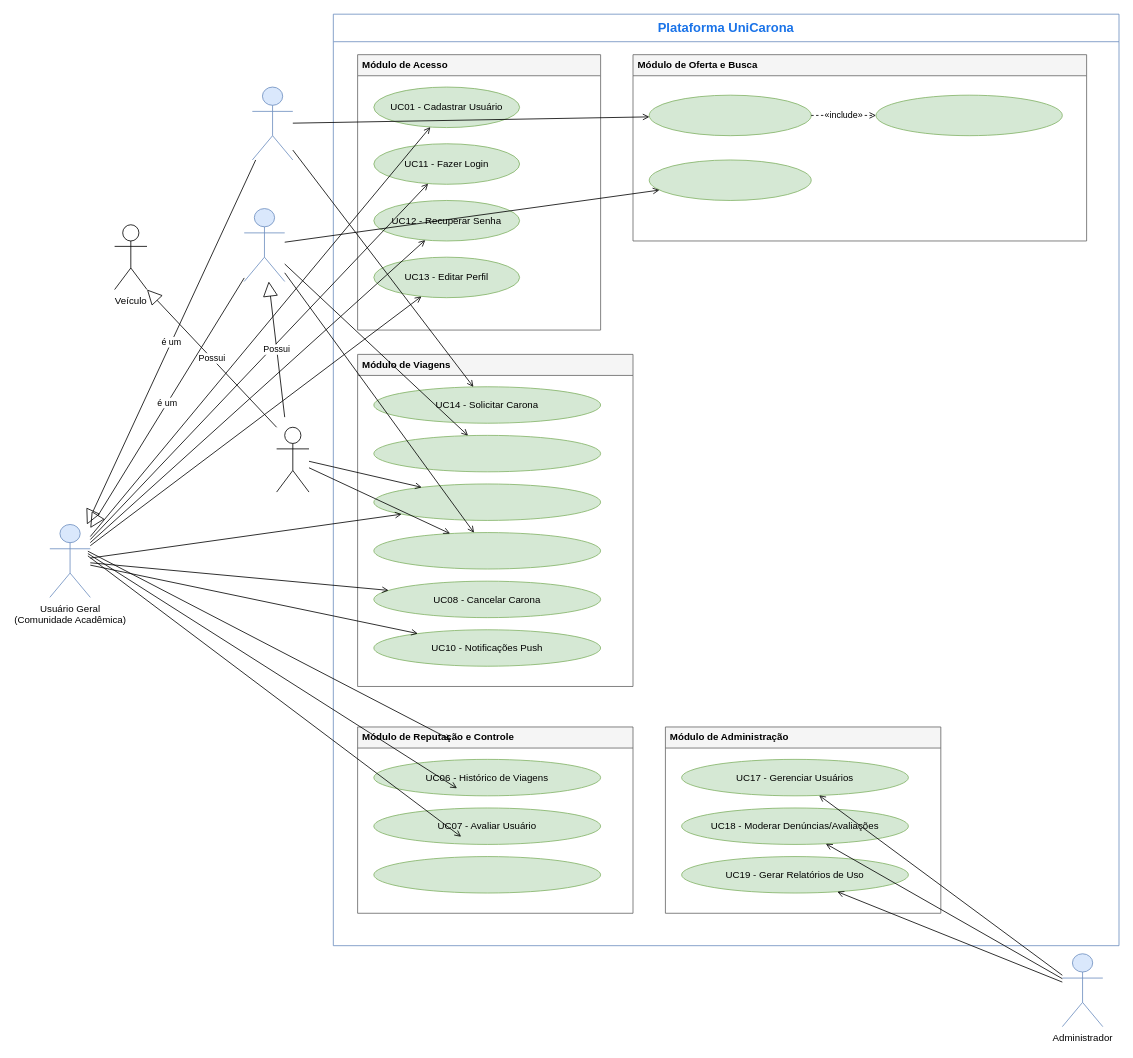
The diagram is 1133 pixels wide and 1058 high, and some of its shapes have lost their labels. Each missing label, with the centre of its shape:
"Corrida/Rota" belongs at pixel 292 459.
"Motorista" belongs at pixel 264 244.
"Passageiro" belongs at pixel 272 123.
"UC02 - Cadastro de Rotas" belongs at pixel 729 179.
"UC03 - Buscar Carona" belongs at pixel 729 115.
"UC04 - Algoritmo de Matching" belongs at pixel 968 115.
"UC05 - Rastreamento" belongs at pixel 487 501.
"UC09 - Sustentabilidade" belongs at pixel 487 874.
"UC15 - Aceitar Solicitação" belongs at pixel 487 453.
"UC16 - Iniciar/Finalizar Viagem" belongs at pixel 487 550.
